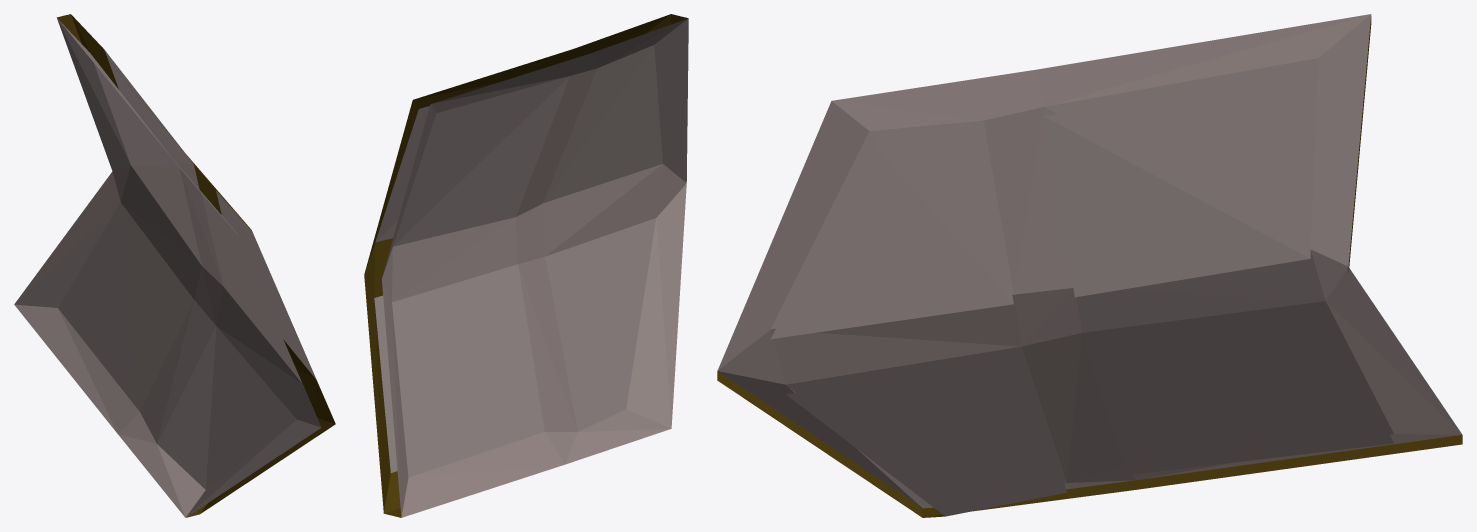
File: npc_world_suit_of_armour_7.obj
The picture shows the model from 3 angles, left to right: view 1: azimuth 30°, elevation 25°; view 2: azimuth 150°, elevation 25°; view 3: azimuth 270°, elevation 25°; orthographic projection. The views are drawn at different scales.
Bounding box in the file's own units: 0.1641 × 0.5859 × 0.7656.
